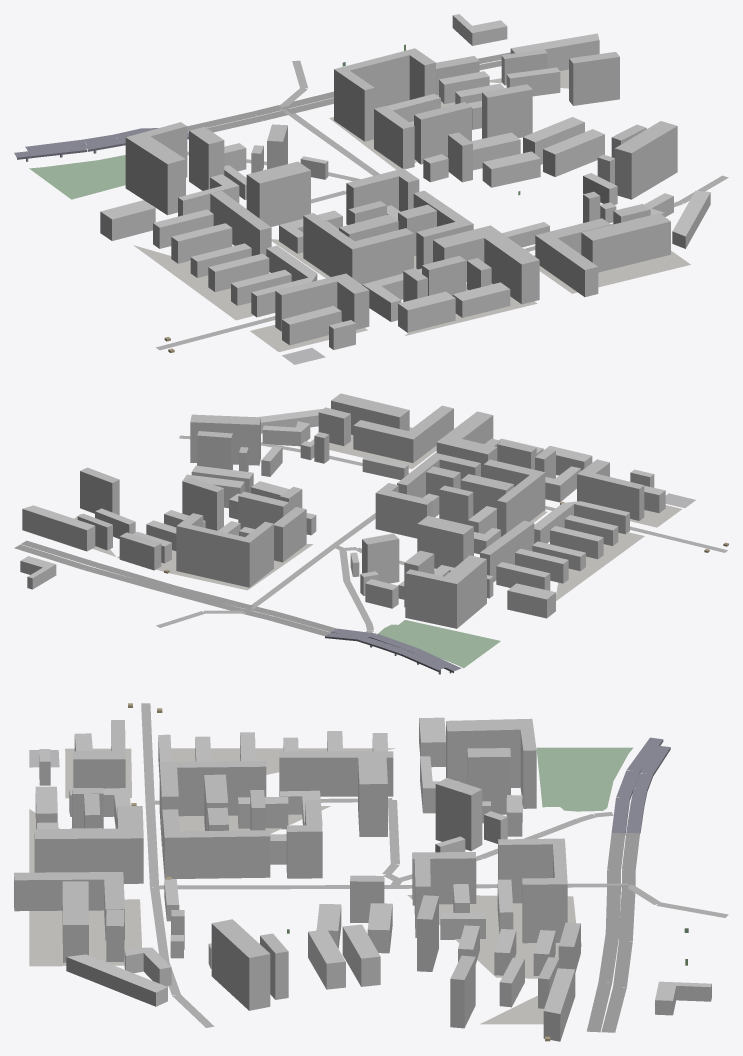
3 views of the same model, one above another, from view 1: azimuth 30°, elevation 25°; view 2: azimuth 150°, elevation 25°; view 3: azimuth 270°, elevation 25° (orthographic). The views are drawn at different scales.
Size of the model in its own units: 617 by 53.83 by 538.
